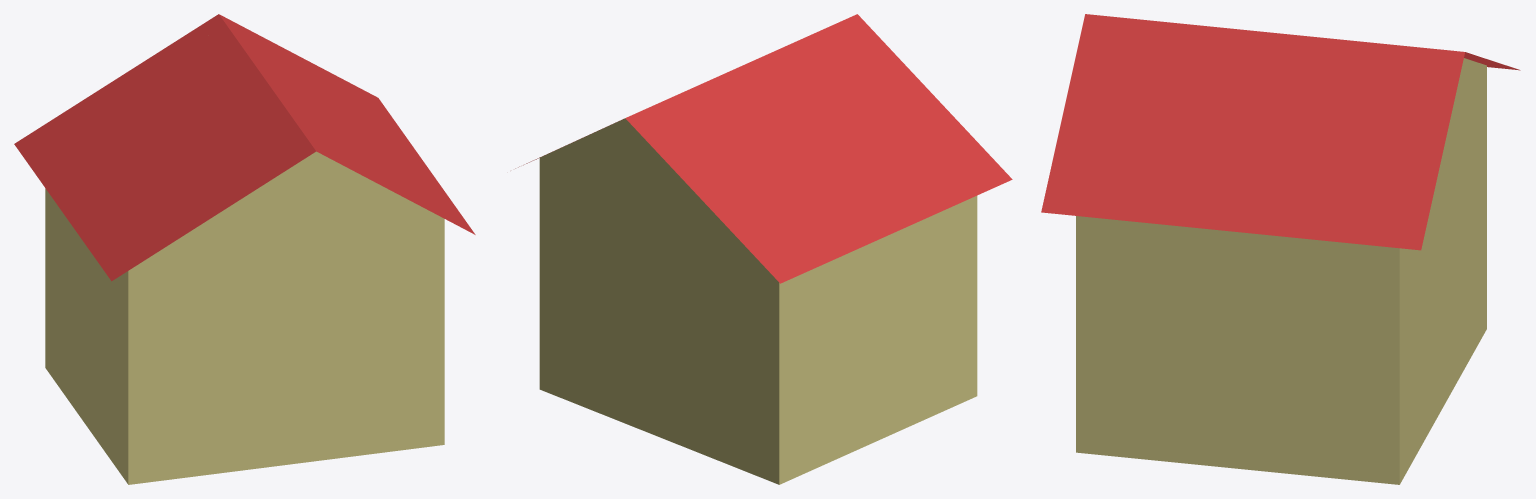
3 views of the same model, side by side, from view 1: azimuth 30°, elevation 25°; view 2: azimuth 150°, elevation 25°; view 3: azimuth 270°, elevation 25° (orthographic). The views are drawn at different scales.
Visible parts, largest first — view 1: group_5, group_3, group_4; view 2: group_5, group_3, group_4; view 3: group_5, group_3, group_4.
Boxes of the visible parts, x1,y1,x2,y2 form: group_5: [45, 151, 444, 484]; group_3: [14, 14, 475, 281]; group_4: [136, 14, 372, 174]; group_5: [539, 118, 977, 484]; group_3: [626, 14, 1012, 283]; group_4: [515, 110, 709, 182]; group_5: [1076, 58, 1486, 484]; group_3: [1041, 14, 1464, 250]; group_4: [1085, 14, 1520, 96].
Size of the model in its own units: 13.4 by 12.49 by 10.58.
